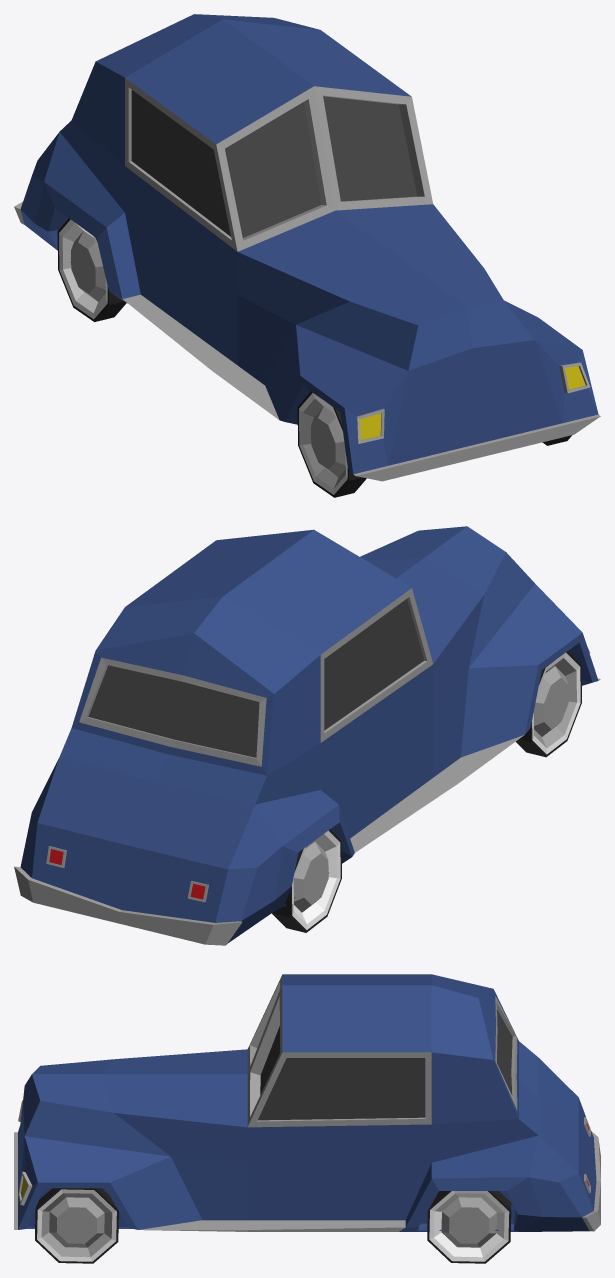
File: Classic Car.fbx
The picture shows the model from 3 angles, top to bottom: view 1: azimuth 30°, elevation 25°; view 2: azimuth 150°, elevation 25°; view 3: azimuth 270°, elevation 25°; orthographic projection. The views are drawn at different scales.
Visible parts, largest first — view 1: Classic Car; view 2: Classic Car; view 3: Classic Car.
Part boxes in pixels (bbox=[...]): Classic Car: bbox=[14, 14, 600, 497]; Classic Car: bbox=[14, 526, 600, 945]; Classic Car: bbox=[14, 974, 600, 1263].
Bounding box in the file's own units: 87.77 × 97.09 × 223.
